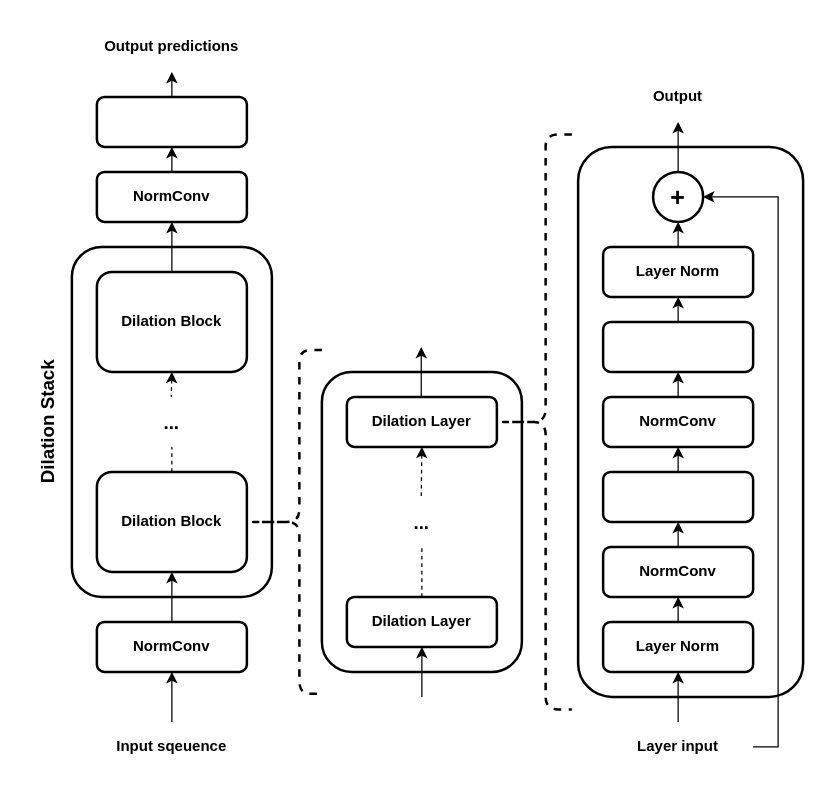
Some shapes in this 825 by 793 pixel diagram are drawn without their labels. The shapes that lost their labels are listed below. From the top down, each one's centre as x and y in pixels, then its label:
At (171,121): "Softmax".
At (677,346): "Dropout".
At (677,496): "Dilated NormConv".
